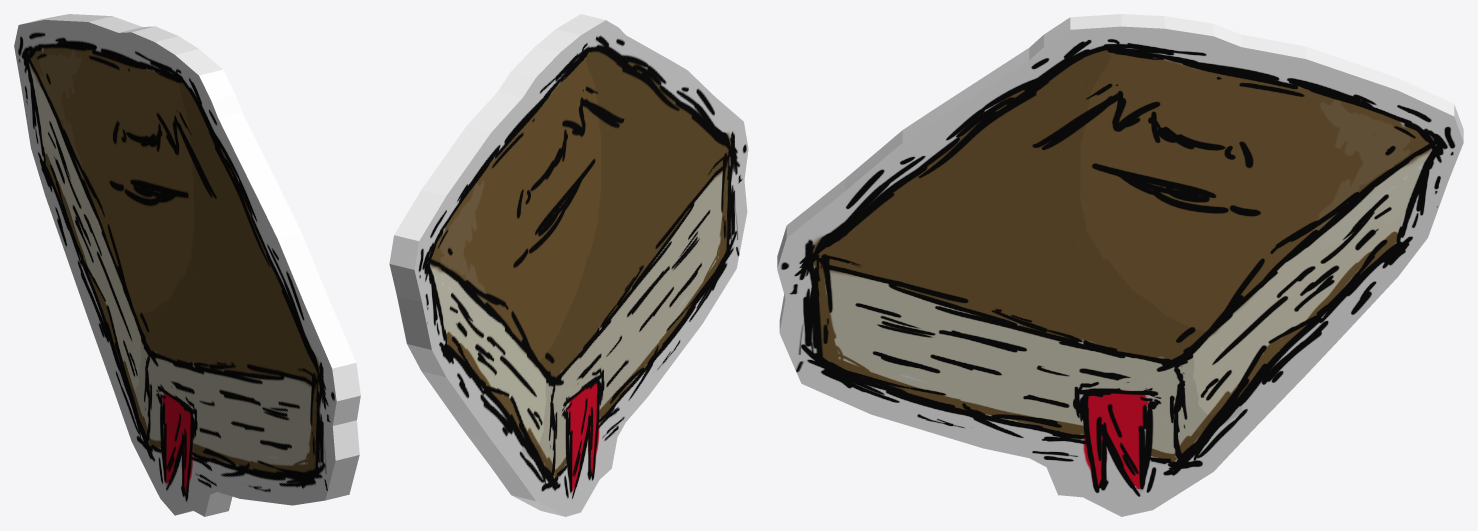
The model's file is Libro.fbx.
3 renders of one model, left to right at view 1: azimuth 30°, elevation 25°; view 2: azimuth 150°, elevation 25°; view 3: azimuth 270°, elevation 25°, orthographic. The views are drawn at different scales.
Parts seen in each view (by area): view 1: Libro; view 2: Libro; view 3: Libro.
Part boxes in pixels (x1,y1,x2,y2): Libro: (14,14,360,516); Libro: (389,14,748,516); Libro: (777,14,1463,516).
Size of the model in its own units: 6.42 by 117 by 148.
